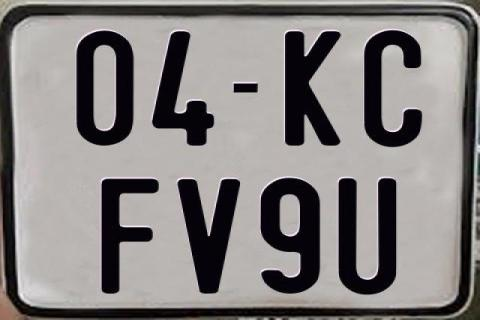0: (260, 177, 326, 297), (152, 30, 218, 148), (74, 30, 134, 146)
C: (363, 29, 421, 149)
F: (98, 177, 156, 293)
K: (282, 30, 339, 146)
U: (335, 176, 396, 292)
V: (174, 179, 241, 296)
